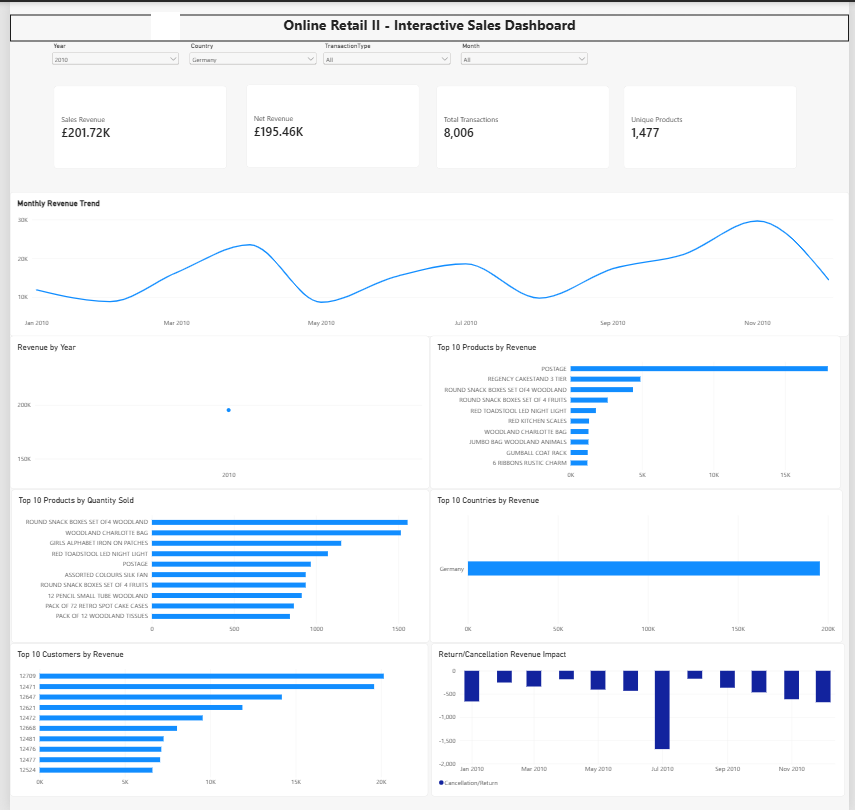

The dashboard page shown, as its layout file describes it:
{"tool":"powerbi","page":{"name":"Page 1","canvas":[1920,1850],"ordinal":0},"visuals":[{"type":"cardVisual","fields":{"Data":["online_retail_II_cleaned.Sales Revenue"]},"box":[99.9,191.4,396.7,190],"z":0},{"type":"cardVisual","fields":{"Data":["online_retail_II_cleaned.Net Revenue"]},"box":[540.6,189.6,396.4,190],"z":1000},{"type":"cardVisual","fields":{"Data":["online_retail_II_cleaned.Total Transactions"]},"box":[975,192.5,396.4,190],"z":2000},{"type":"cardVisual","fields":{"Data":["online_retail_II_cleaned.Total Products"]},"box":[1405,192.5,396.4,190],"z":3000},{"type":"textbox","box":[0,30,1920,62.5],"z":4000},{"type":"slicer","fields":{"Values":["online_retail_II_cleaned.Year"]},"box":[92.8,92.8,300,100],"z":5000},{"type":"lineChart","title":"Monthly Revenue Trend","fields":{"Category":["online_retail_II_cleaned.YearMonth"],"Y":["Sum(online_retail_II_cleaned.Revenue)"]},"box":[0,423.3,1919.2,331.8],"z":6000},{"type":"lineChart","title":"Revenue by Year","fields":{"Category":["online_retail_II_cleaned.Year"],"Y":["Sum(online_retail_II_cleaned.Revenue)"]},"box":[0,764.3,950,350.8],"z":7000},{"type":"clusteredBarChart","title":"Top 10 Products by Revenue","fields":{"Category":["online_retail_II_cleaned.Description"],"Y":["Sum(online_retail_II_cleaned.Revenue)"]},"box":[960,764.3,946,350.8],"z":8000},{"type":"clusteredBarChart","title":"Top 10 Products by Quantity Sold","fields":{"Category":["online_retail_II_cleaned.Description"],"Y":["Sum(online_retail_II_cleaned.Quantity)"]},"box":[3.3,1116.7,950,350],"z":9000},{"type":"clusteredBarChart","title":"Top 10 Countries by Revenue","fields":{"Category":["online_retail_II_cleaned.Country"],"Y":["Sum(online_retail_II_cleaned.Revenue)"]},"box":[960,1116.7,946,350],"z":10000},{"type":"clusteredBarChart","title":"Top 10 Customers by Revenue","fields":{"Category":["online_retail_II_cleaned.Customer ID"],"Y":["Sum(online_retail_II_cleaned.Revenue)"]},"box":[0,1466.7,950,350],"z":11000},{"type":"clusteredColumnChart","title":"Return/Cancellation Revenue Impact","fields":{"Category":["online_retail_II_cleaned.YearMonth"],"Series":["online_retail_II_cleaned.TransactionType"],"Y":["Sum(online_retail_II_cleaned.Revenue)"]},"box":[963.3,1466.7,946,350],"z":12000},{"type":"slicer","fields":{"Values":["online_retail_II_cleaned.Country"]},"box":[406.4,92.8,300,100],"z":13000},{"type":"slicer","fields":{"Values":["online_retail_II_cleaned.TransactionType"]},"box":[713.6,92.8,300.8,100],"z":14000},{"type":"slicer","fields":{"Values":["online_retail_II_cleaned.MonthName"]},"box":[1025.7,92.9,300,100],"z":15000}]}

Visuals, with their boxes in screenshot pixels (x1, y1, x2, y2), scaled from the page's 1920x1850 canvas onto the 855x810 screenshot:
cardVisual - online_retail_II_cleaned.Sales Revenue: l=44, t=84, r=221, b=167
cardVisual - online_retail_II_cleaned.Net Revenue: l=241, t=83, r=417, b=166
cardVisual - online_retail_II_cleaned.Total Transactions: l=434, t=84, r=611, b=167
cardVisual - online_retail_II_cleaned.Total Products: l=626, t=84, r=802, b=167
textbox: l=0, t=13, r=854, b=40
slicer - online_retail_II_cleaned.Year: l=41, t=41, r=175, b=84
"Monthly Revenue Trend" lineChart: l=0, t=185, r=854, b=331
"Revenue by Year" lineChart: l=0, t=335, r=423, b=488
"Top 10 Products by Revenue" clusteredBarChart: l=428, t=335, r=849, b=488
"Top 10 Products by Quantity Sold" clusteredBarChart: l=1, t=489, r=425, b=642
"Top 10 Countries by Revenue" clusteredBarChart: l=428, t=489, r=849, b=642
"Top 10 Customers by Revenue" clusteredBarChart: l=0, t=642, r=423, b=795
"Return/Cancellation Revenue Impact" clusteredColumnChart: l=429, t=642, r=850, b=795
slicer - online_retail_II_cleaned.Country: l=181, t=41, r=315, b=84
slicer - online_retail_II_cleaned.TransactionType: l=318, t=41, r=452, b=84
slicer - online_retail_II_cleaned.MonthName: l=457, t=41, r=590, b=84
